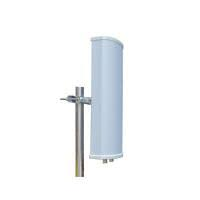sa: (69, 26, 137, 187)
